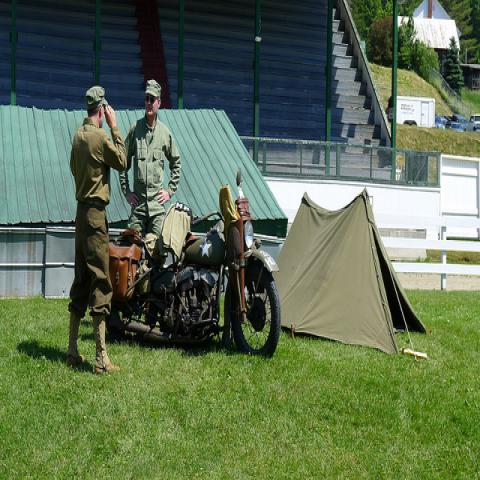motorcycle: (108, 168, 281, 357)
truck: (385, 96, 436, 128), (469, 113, 479, 133)
